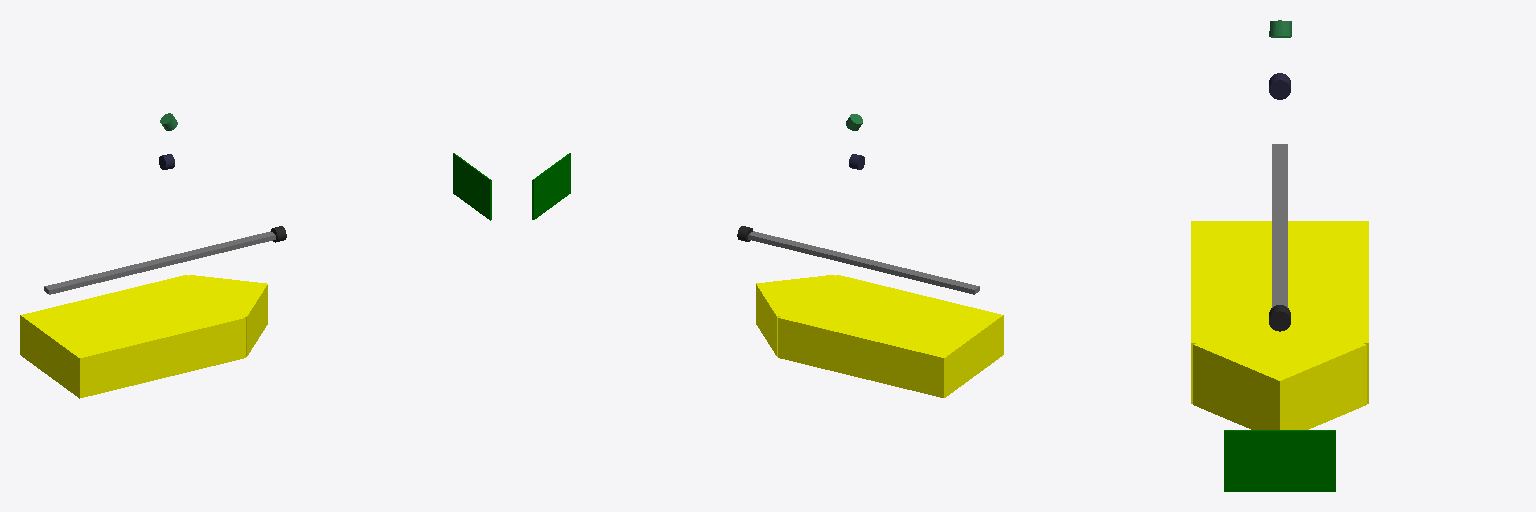
The robot description file, URDF, robot "izzyboat":
<?xml version="1.0"?>
<robot name="izzyboat">


  <material name="hull">
    <color rgba="1.0 1.0 0.0 1.0"/>
  </material>

  <!-- The following is for VSCode urdf preview to work -->
  <!-- <link name="base_link"/>
  <joint name="base_to_izzy" type="fixed">
    <parent link="base_link"/>
    <child link="izzy/base_link"/>
    <origin xyz="0 0 0" rpy="0 0 0"/>
  </joint> -->

  <link name="izzy/base_link">
    <visual name="frame">
      <geometry>
        <box size="1.77 0.07 0.035"/>
      </geometry>
      <origin xyz="0.31 0 0.5"/>
      <material name="gray">
        <color rgba="0.5 0.5 0.5 1.0"/>
      </material>
    </visual>
    <visual name="hull">
      <geometry>
        <box size="1.3 0.8 0.3"/>
      </geometry>
      <origin xyz="0.10 0 0.0"/>
      <material name="hull"/>
    </visual>
    <visual name="bow">
      <geometry>
        <box size="0.55 0.55 0.3"/>
      </geometry>
      <origin xyz="0.765 0 0.0" rpy="0 0 0.7854"/>
      <material name="hull"/>
    </visual>

  </link>

  <link name="izzy/camera_forward">
     <visual>
      <geometry>
        <cylinder length="0.07" radius="0.05"/>
      </geometry>
      <origin rpy="0 1.57075 0" xyz="-0.015 0 0"/>
      <material name="camera">
        <color rgba="0.2 0.2 0.2 1.0"/>
      </material>
    </visual>
  </link>

  <link name="izzy/camera_forward_optical">
     <visual>
      <geometry>
        <box size=".5 .3 .01"/>
      </geometry>
      <origin rpy="0 0 0" xyz="0 0 1.5"/>
      <material name="image_plane">
        <color rgba="0.0 0.5 0.0 0.5"/>
      </material>
    </visual>
  </link>


  <joint name="base_to_camera_forward" type="fixed">
    <parent link="izzy/base_link"/>
    <child link="izzy/camera_forward"/>
    <origin xyz="1.25 0 0.5" rpy="0 0 0"/>
  </joint>

  <joint name="camera_forward_to_camera_forward_optical" type="fixed">
    <parent link="izzy/camera_forward"/>
    <child link="izzy/camera_forward_optical"/>
    <origin xyz="0 0 0" rpy="-1.57075 0 -1.57075"/>
  </joint>


  <link name="izzy/forward_oak_camera">
     <visual>
      <geometry>
        <cylinder length="0.07" radius="0.05"/>
      </geometry>
      <origin rpy="0 1.57075 0" xyz="-0.015 0 0"/>
      <material name="oak_camera">
        <color rgba="0.2 0.2 0.3 1.0"/>
      </material>
    </visual>
  </link>


  <link name="izzy/forward_oak_camera_optical"/>

  <joint name="oak_forward_to_oak_forward_optical" type="fixed">
    <parent link="izzy/forward_oak_camera"/>
    <child link="izzy/forward_oak_camera_optical"/>
    <origin xyz="0 0 0" rpy="-1.57075 0 -1.57075"/>
  </joint>

  <joint name="base_to_oak_forward" type="fixed">
    <parent link="izzy/base_link"/>
    <child link="izzy/forward_oak_camera"/>
    <origin xyz="0.378 0 1.241" rpy="-0.01 0.04 0"/>
  </joint>


  <link name="izzy/top_camera">
     <visual>
      <geometry>
        <cylinder length="0.07" radius="0.05"/>
      </geometry>
      <origin rpy="0 1.57075 0" xyz="-0.015 0 0"/>
      <material name="top_camera">
        <color rgba="0.2 0.5 0.3 1.0"/>
      </material>
    </visual>
  </link>


  <link name="izzy/top_camera_optical"/>

  <joint name="top_to_top_optical" type="fixed">
    <parent link="izzy/top_camera"/>
    <child link="izzy/top_camera_optical"/>
    <origin xyz="0 0 0" rpy="-1.57075 0 -1.57075"/>
  </joint>

  <joint name="oak_to_top" type="fixed">
    <parent link="izzy/forward_oak_camera"/>
    <child link="izzy/top_camera"/>
    <origin xyz="0 0 0.28" rpy="0 1.0 0"/>
  </joint>


  <link name="izzy/deltat">
    <visual>
      <geometry>
        <box size="0.1 0.1 0.1"/>
      </geometry>
      <origin xyz="0 0 0"/>
      <material name="deltat">
        <color rgba="0.5 0.5 0.5 1.0"/>
      </material>
    </visual>
  </link>

  <joint name="base_to_deltat" type="fixed">
    <parent link="izzy/base_link"/>
    <child link="izzy/deltat"/>
    <origin xyz="-.1530 0 -0.15" rpy="3.14159 0 3.14159"/>
  </joint>


  <!-- <link name="izzy/norbit">
    <visual>
      <geometry>
        <box size="0.15 0.15 0.1"/>
      </geometry>
      <origin xyz="0 0 0"/>
      <material name="norbit">
        <color rgba="0.5 0.5 0.75 1.0"/>
      </material>
    </visual>
  </link>
  <joint name="base_to_norbit" type="fixed">
    <parent link="izzy/base_link"/>
    <child link="izzy/norbit"/>
    <origin xyz="0 0 -0.18" rpy="3.14159 0.0 0.0"/>
  </joint> -->


</robot>

--- What the picture shows (computed from the rendered views, not written in the file) ---
The picture shows the robot from 3 angles, left to right: view 1: azimuth 30°, elevation 25°; view 2: azimuth 150°, elevation 25°; view 3: azimuth 270°, elevation 25°; orthographic projection.
Robot: izzyboat — 8 links, 7 joints (7 fixed); root link izzy/base_link; default pose: all joints at 0.
Links seen in each view (by area): view 1: izzy/base_link, izzy/camera_forward_optical; view 2: izzy/base_link, izzy/camera_forward_optical; view 3: izzy/base_link, izzy/camera_forward_optical.
Boxes of the visible links, x1=… form: izzy/base_link: x1=20, y1=231, x2=275, y2=398; izzy/camera_forward_optical: x1=453, y1=153, x2=491, y2=220; izzy/base_link: x1=748, y1=231, x2=1003, y2=397; izzy/camera_forward_optical: x1=532, y1=153, x2=570, y2=219; izzy/base_link: x1=1191, y1=144, x2=1368, y2=429; izzy/camera_forward_optical: x1=1224, y1=430, x2=1335, y2=491.
Bounding box of the posed robot: 3.33 × 0.8 × 1.79 m (x, y, z).
Geometry: primitives only (box / cylinder / sphere), no mesh files.
